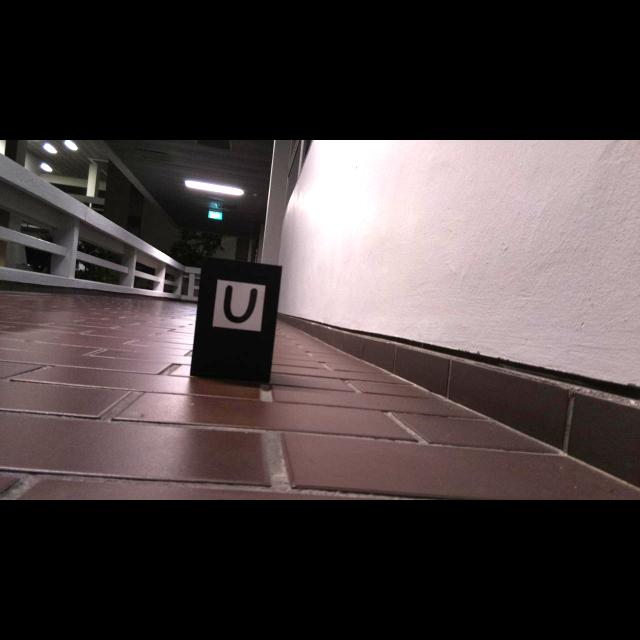U: (224, 286, 258, 324)
